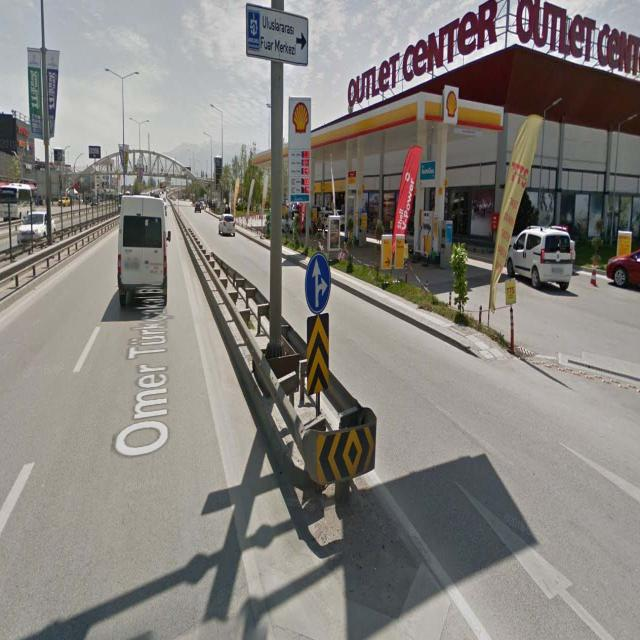ilerisag: (305, 254, 332, 316)
